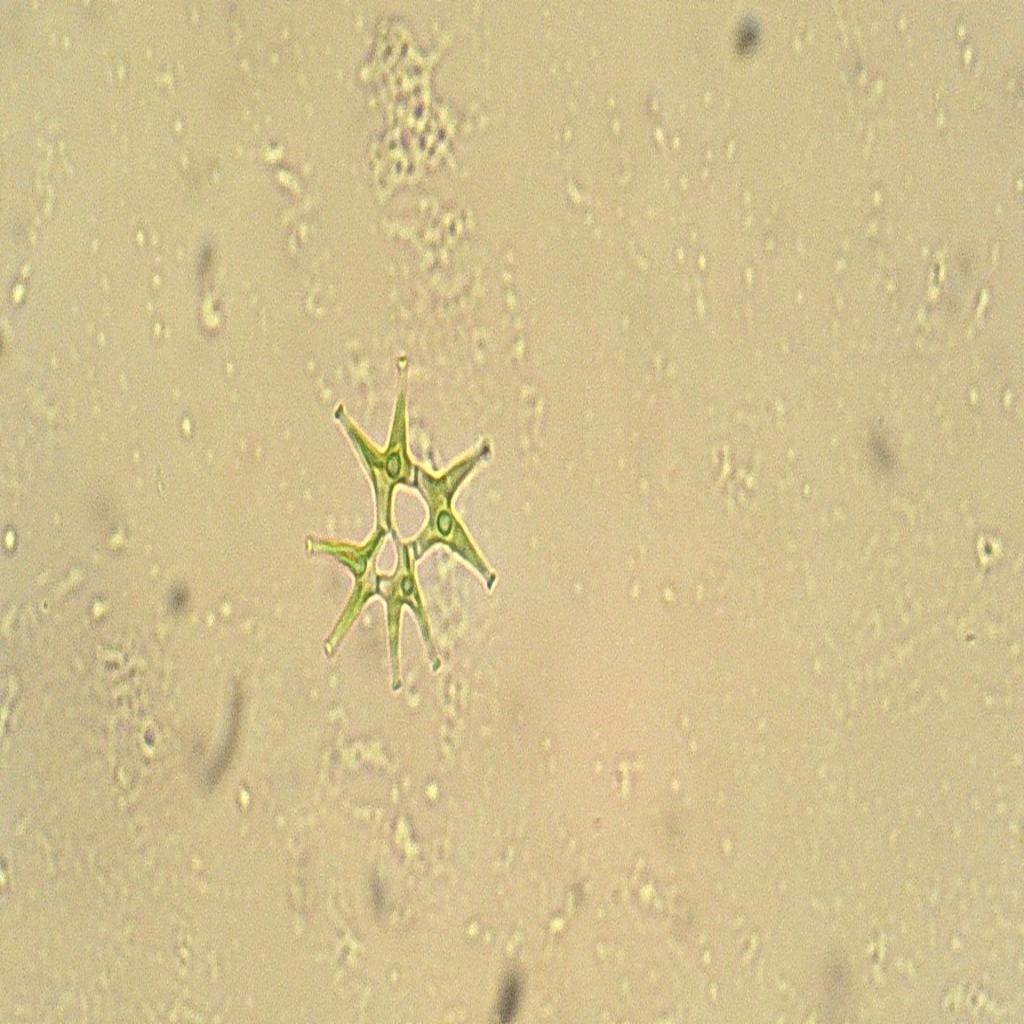Pediastrum_75FO: (280, 338, 523, 716)
